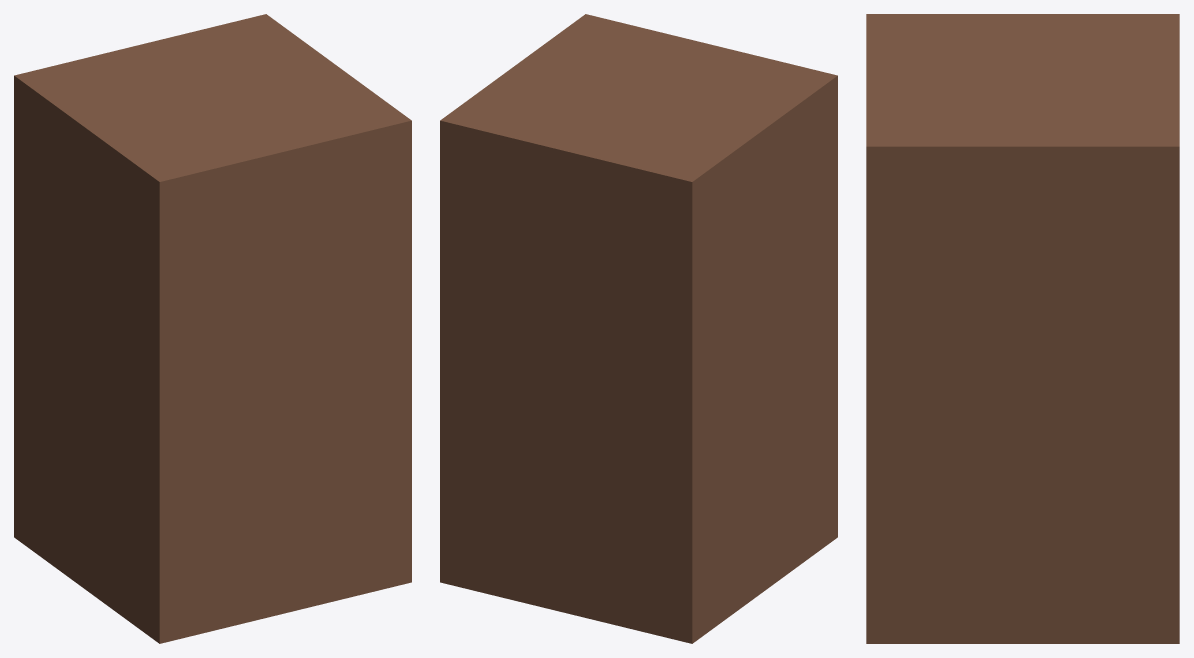
File: Block_Large.fbx
The picture shows the model from 3 angles, left to right: view 1: azimuth 30°, elevation 25°; view 2: azimuth 150°, elevation 25°; view 3: azimuth 270°, elevation 25°; orthographic projection. The views are drawn at different scales.
Visible parts, largest first — view 1: Block_Large; view 2: Block_Large; view 3: Block_Large.
Boxes of the visible parts, x1,y1,x2,y2 form: Block_Large: (14, 14, 411, 643); Block_Large: (440, 14, 837, 643); Block_Large: (866, 14, 1179, 643).
Size of the model in its own units: 8 by 14 by 8.
